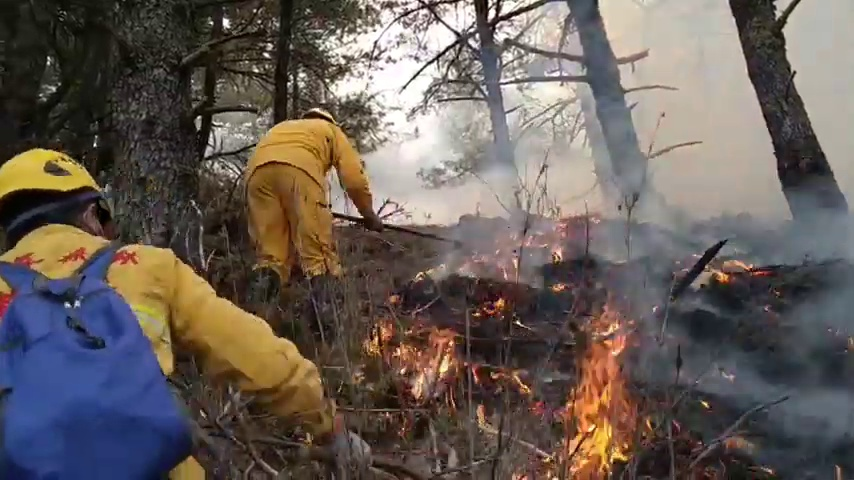fire: (553, 324, 628, 478), (363, 315, 457, 393), (549, 244, 563, 264), (491, 297, 504, 310)
